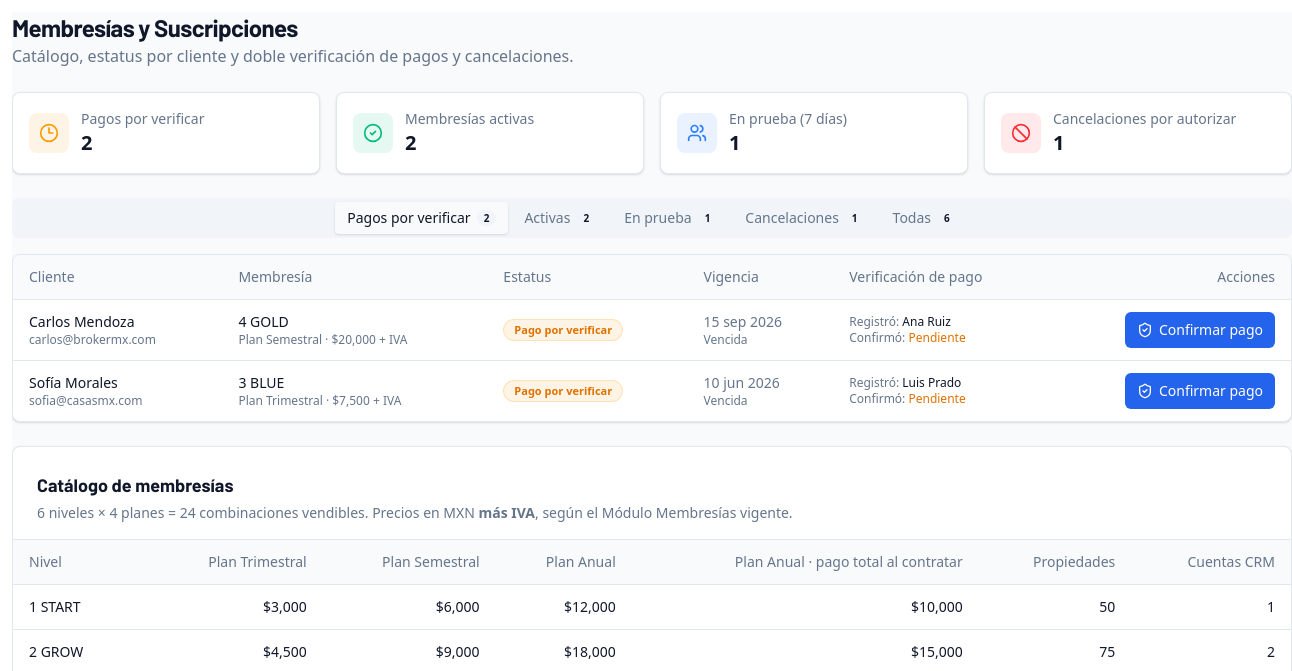
<AdminMembresiasPage /> › marca las membresías acumuladas sobre PLATINO
Click the tab "Todas 6" at (925, 218), box [881,202,969,234]
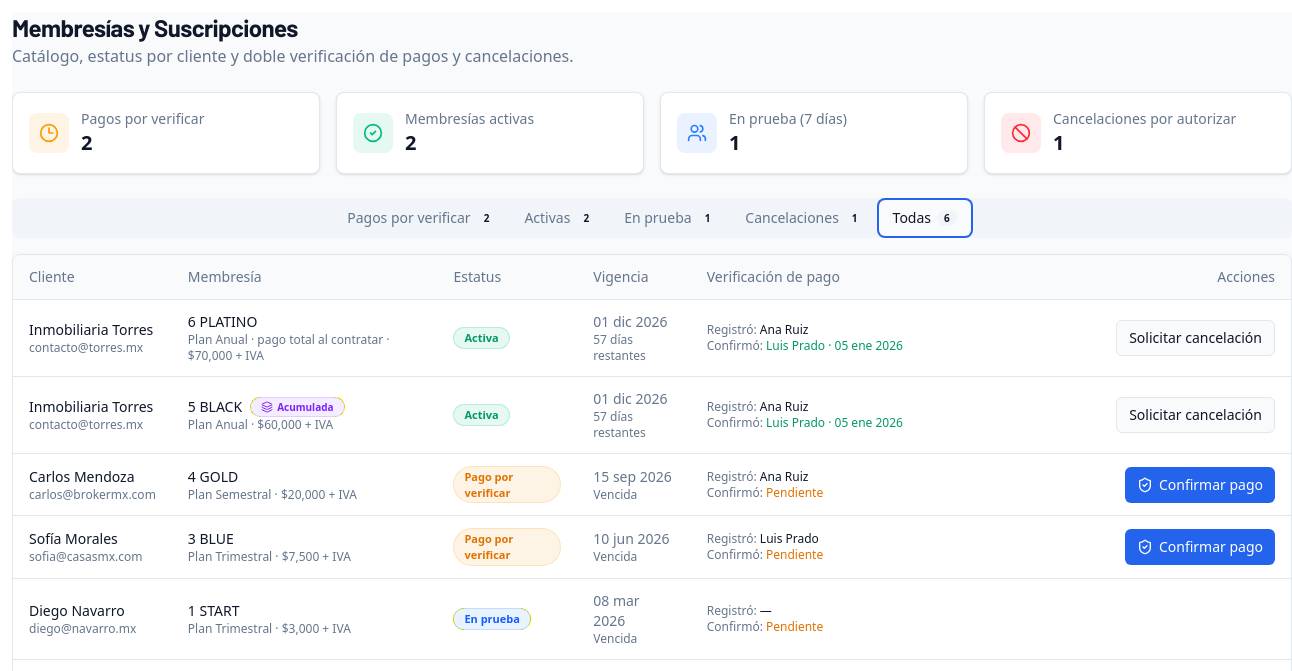
Result: the text "Acumulada" is shown at [250,397,345,417]
